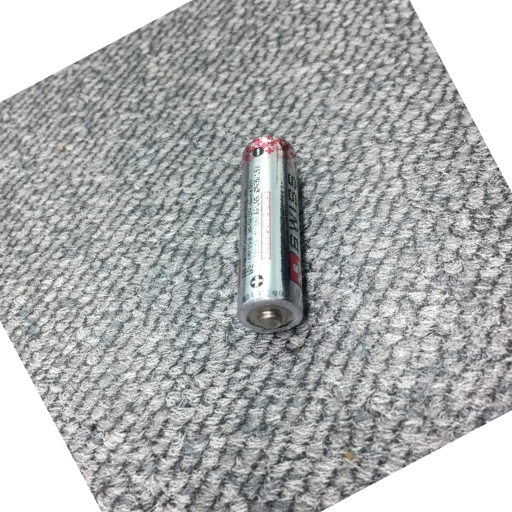Battery_0: (233, 132, 313, 341)
